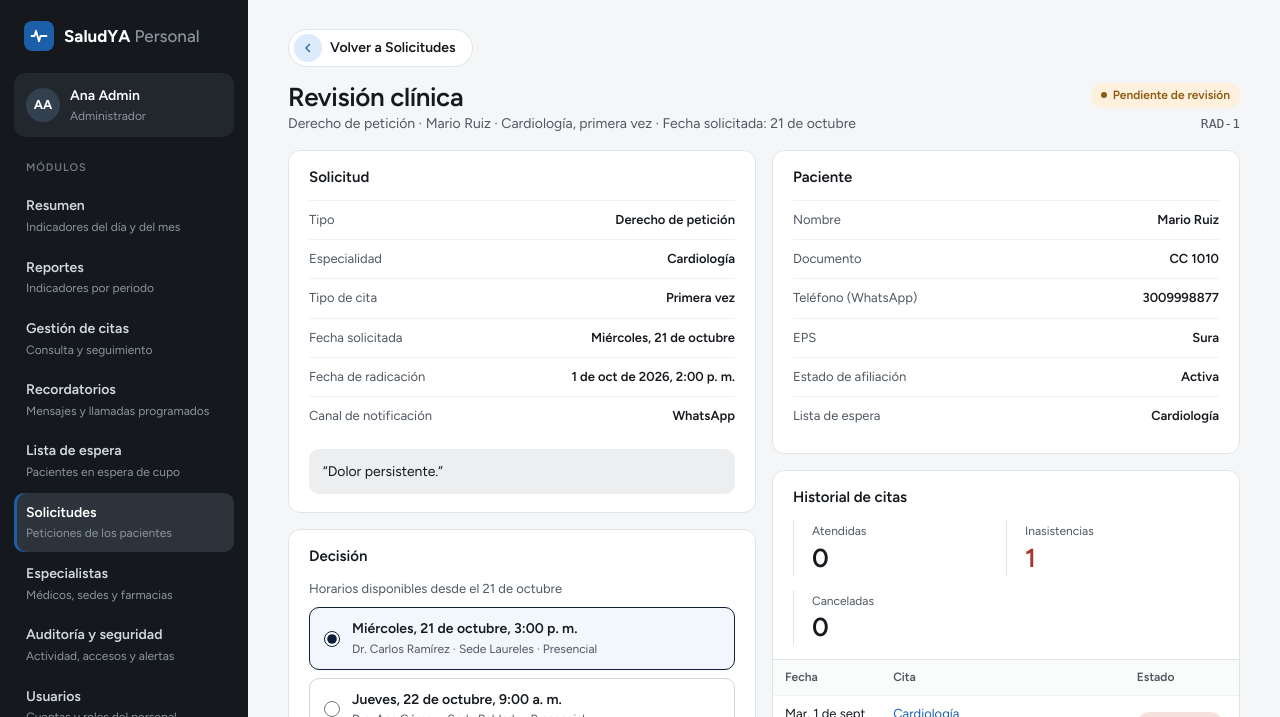
Test: Revisión clínica › muestra el contexto y aprueba asignando un horario desde la fecha pedida
Expected: the text "Dolor persistente." is shown, [309, 449, 735, 494]
Expected: the text "Cardiología" is shown 2 times, [667, 249, 735, 269]; [1151, 406, 1219, 426]
Click the radio button labelled "Jueves, 22 de octubre": click(332, 709) [324, 701, 340, 716]
(page scrolled)
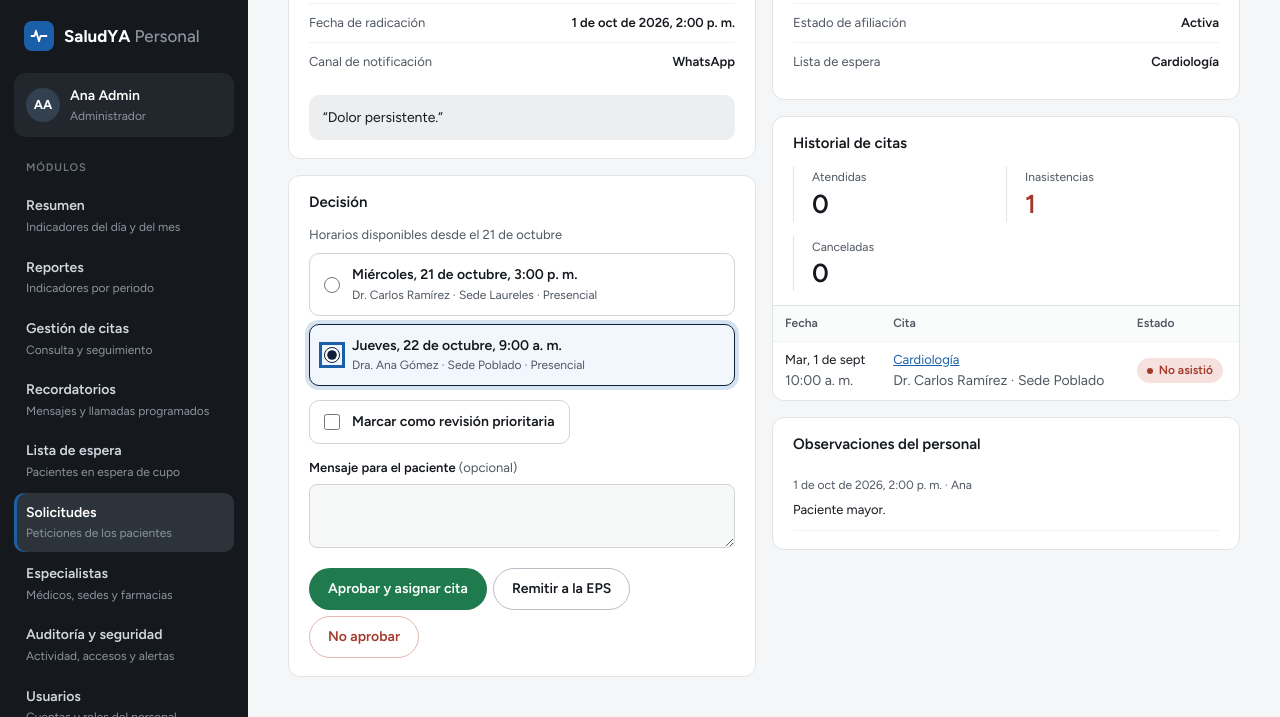
Click the checkbox labelled "Marcar como revisión prioritaria": click(332, 422) [324, 414, 340, 430]
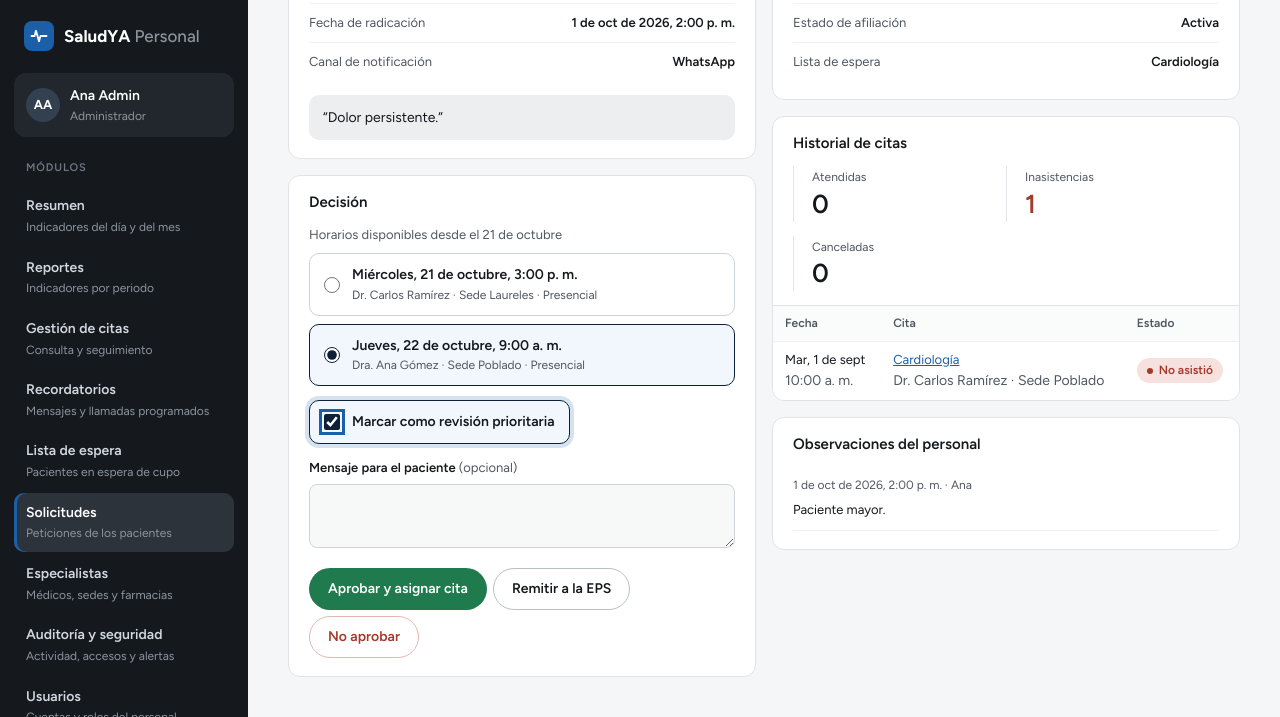
In the text box labelled "Mensaje para el paciente (opcional)": (522, 516) [309, 484, 735, 548], type "Aprobada."
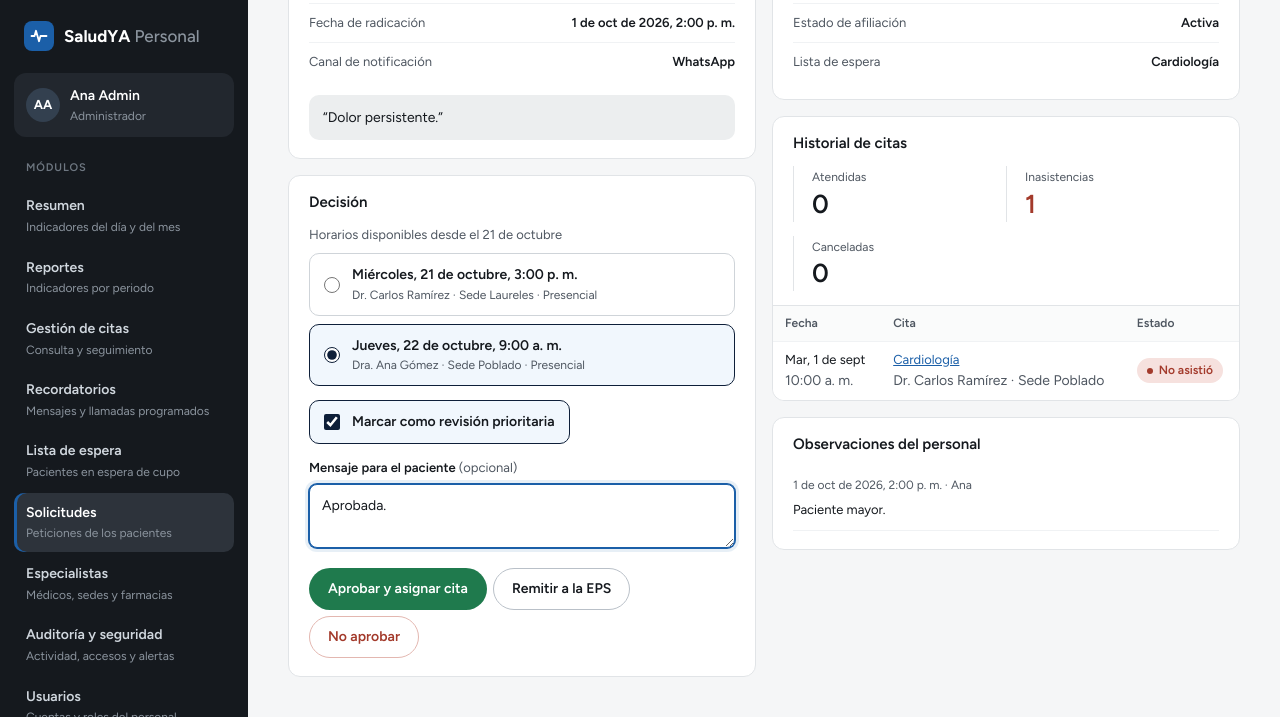
Click the button "Aprobar y asignar cita": click(398, 590) [309, 568, 487, 610]
(page scrolled)
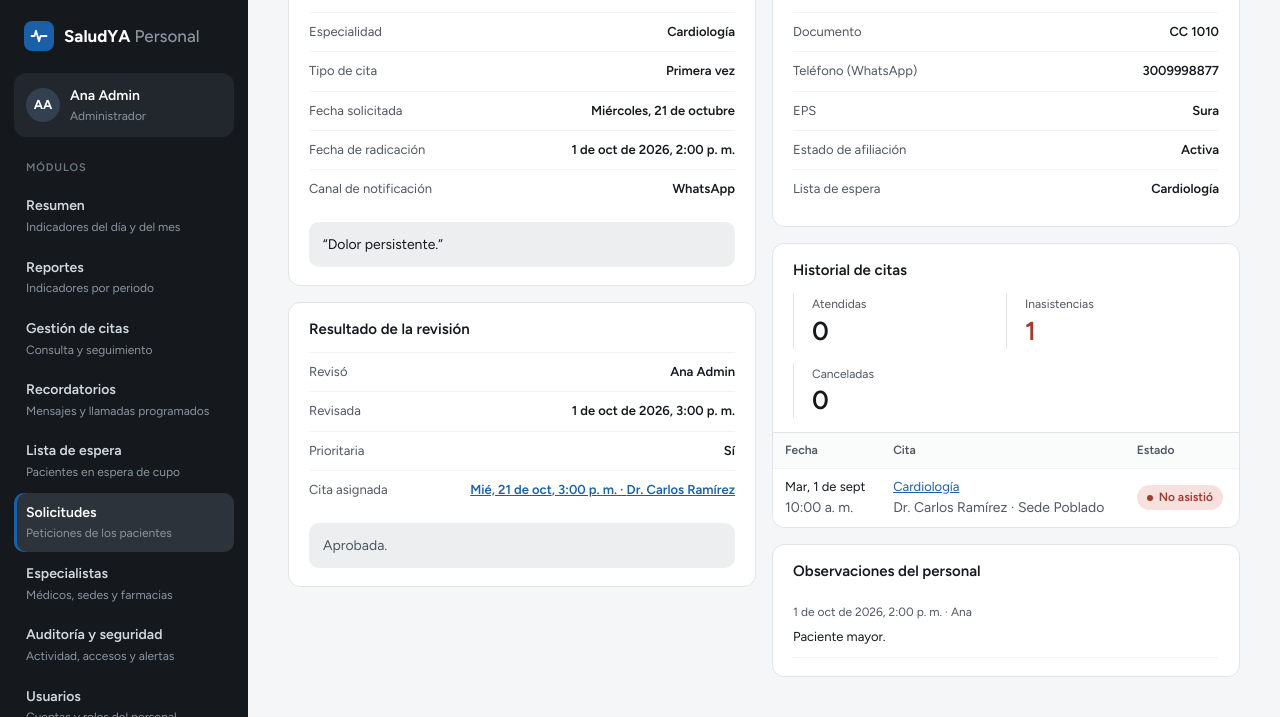
Expected: the text "Sí" is shown, [724, 440, 735, 461]
